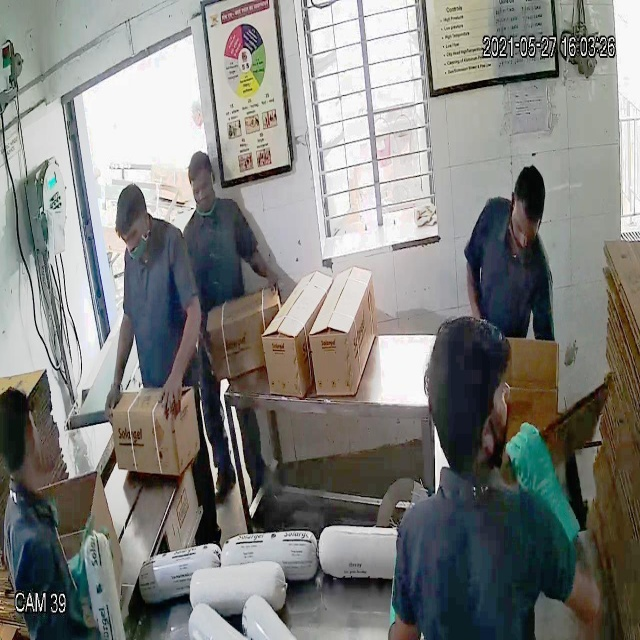Sin_gafas: (189, 178, 215, 202)
